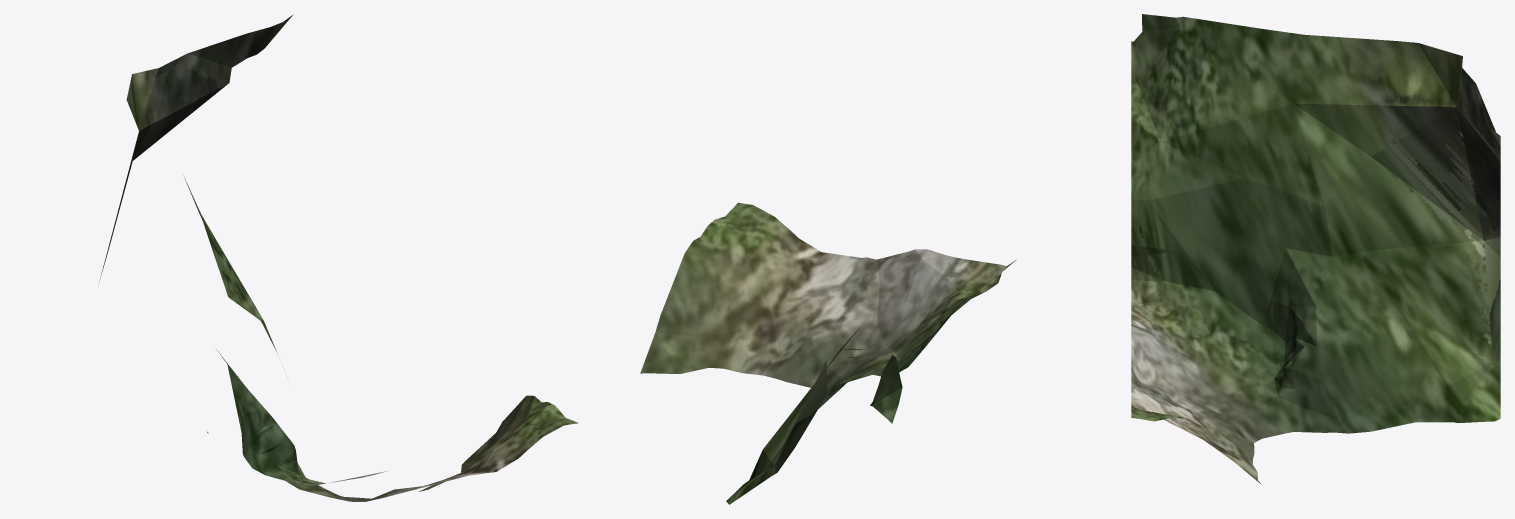
The picture shows the model from 3 angles, left to right: view 1: azimuth 30°, elevation 25°; view 2: azimuth 150°, elevation 25°; view 3: azimuth 270°, elevation 25°; orthographic projection. The views are drawn at different scales.
Bounding box in the file's own units: 2.95 × 2.95 × 2.95.
Materials: 3 (3 with a texture image).
